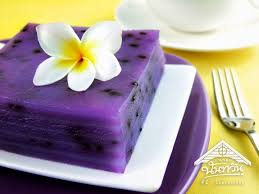kanomchan: (1, 18, 169, 177)
